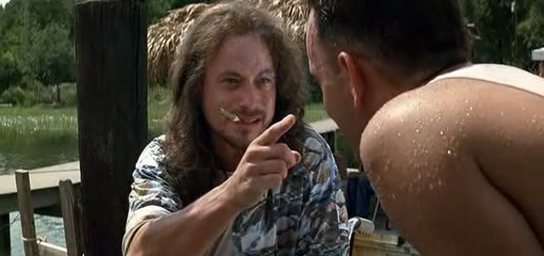face: (207, 50, 275, 148)
mcu: (1, 1, 544, 256)
ots: (306, 1, 544, 256)
person: (121, 1, 350, 256)
